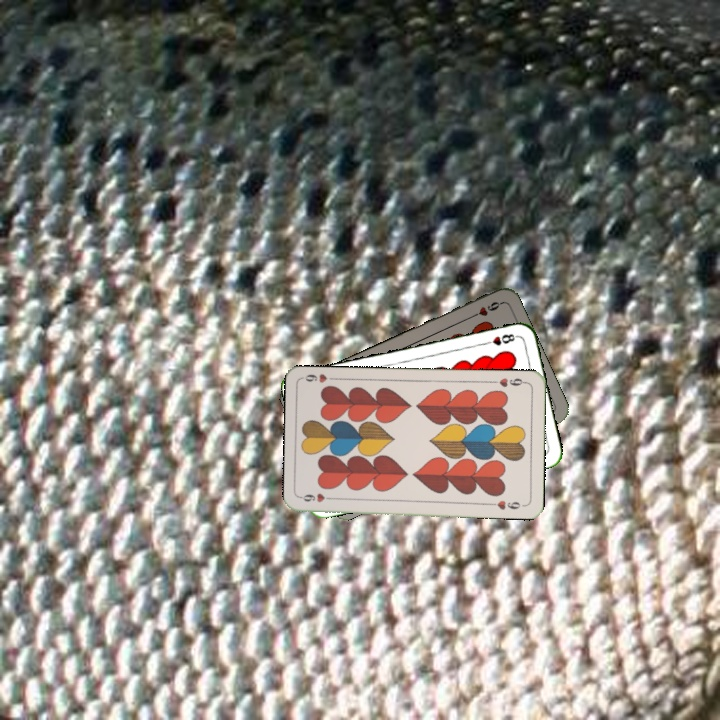H8: (480, 330, 520, 348)
H9: (466, 297, 504, 321), (489, 374, 529, 390), (298, 490, 339, 504)
